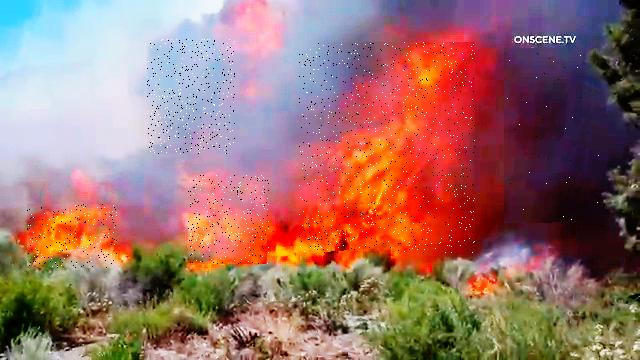fire: (299, 42, 475, 253), (189, 175, 270, 264), (28, 204, 118, 268)
smoke: (505, 49, 600, 226), (147, 39, 235, 154)
